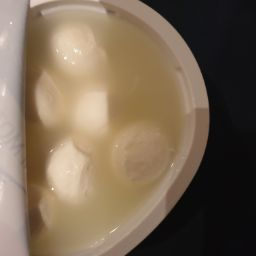Mini Mozzarella Cheese: (34, 28, 162, 201), (40, 136, 110, 214), (114, 111, 179, 188), (47, 22, 112, 81), (28, 177, 72, 244), (74, 88, 115, 147), (36, 68, 70, 133)
